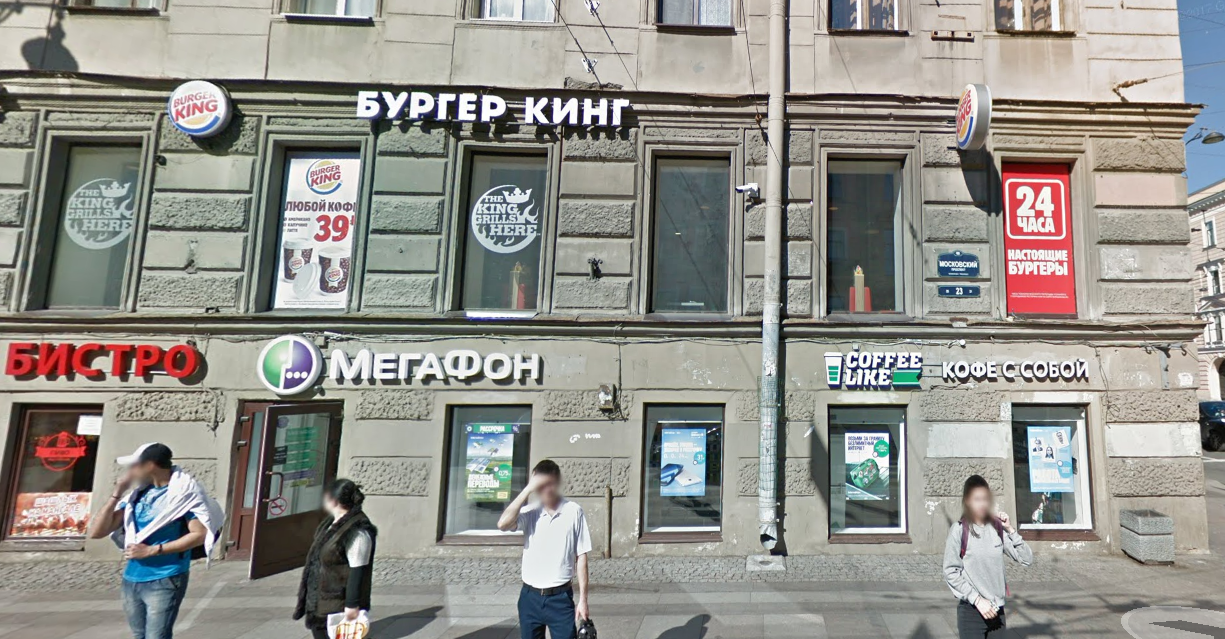cantilever: (930, 80, 998, 156)
door: (224, 400, 341, 560)
signboard: (253, 333, 567, 390), (356, 84, 631, 132), (1, 339, 222, 388), (938, 349, 1093, 391), (159, 67, 238, 146), (822, 343, 930, 390)
win_ad: (283, 146, 351, 311), (63, 165, 136, 249), (469, 177, 543, 257)
window: (36, 129, 144, 308), (262, 136, 367, 314), (449, 147, 555, 305), (643, 153, 732, 315), (825, 149, 904, 314), (3, 402, 99, 535), (445, 400, 533, 535), (642, 402, 726, 542), (1005, 157, 1076, 317), (827, 406, 907, 540), (1011, 403, 1091, 530)
